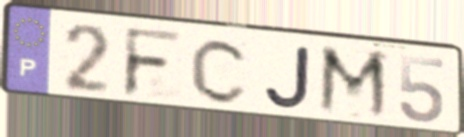2: (60, 21, 113, 97)
5: (396, 53, 446, 125)
C: (188, 35, 253, 106)
F: (119, 24, 186, 100)
J: (262, 43, 313, 111)
M: (315, 43, 392, 124)
